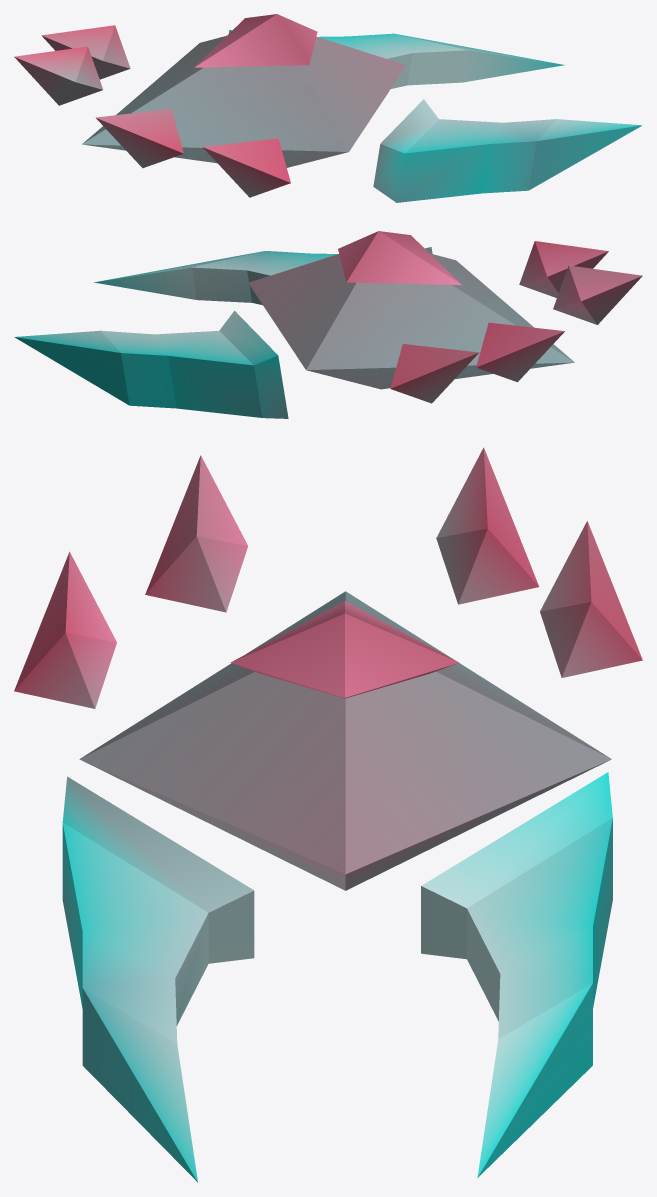
The model's file is InimigoMelee.fbx.
3 views of the same model, one above another, from view 1: azimuth 30°, elevation 25°; view 2: azimuth 150°, elevation 25°; view 3: azimuth 270°, elevation 25° (orthographic). The views are drawn at different scales.
Parts seen in each view (by area): view 1: Reaper; view 2: Reaper; view 3: Reaper.
Part boxes in pixels (x1,y1,x2,y2): Reaper: (14, 14, 642, 202); Reaper: (14, 231, 642, 418); Reaper: (14, 447, 642, 1182).
Bounding box in the file's own units: 690 × 199 × 383.
